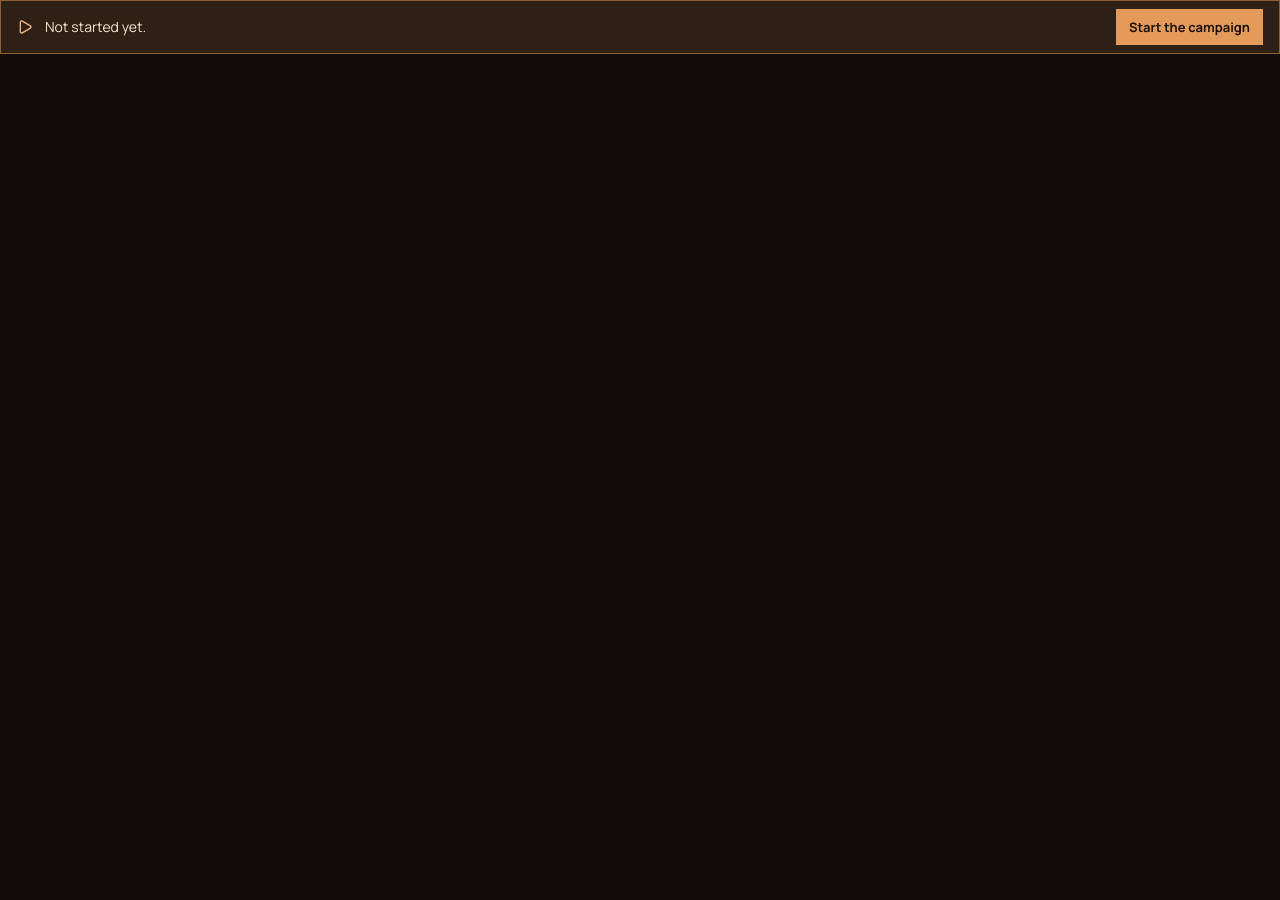
Test: StartCampaignBanner › opens the confirm, which starts the campaign
This screenshot has width=1280, height=900.
Expected: the message shows "Not started yet.", left=45, top=17, right=146, bottom=36
What coordinates should you click on to do the following:
click the button "Start the campaign"
I would click on:
 (1189, 27)
Its box is left=1116, top=9, right=1263, bottom=45.
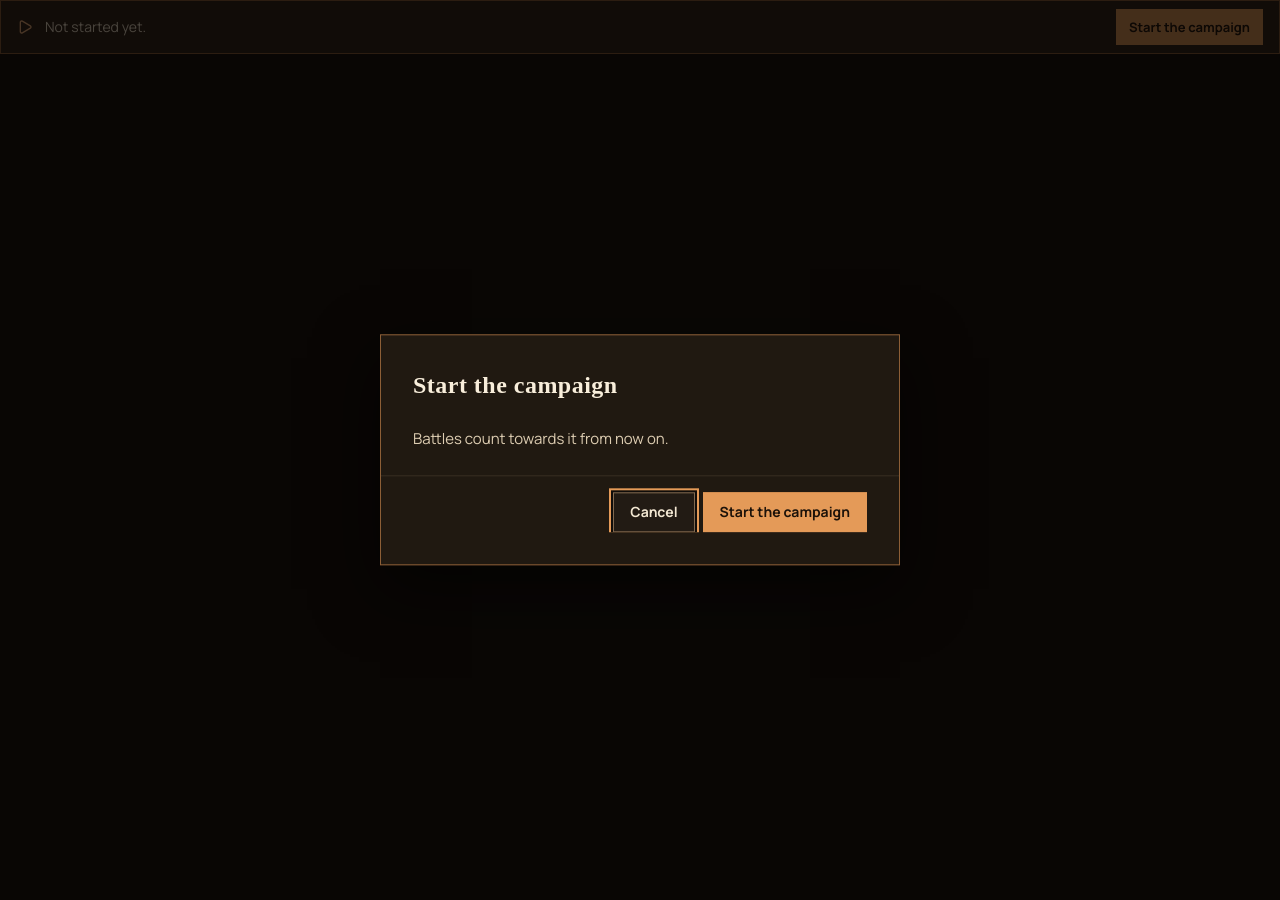
Now the dialog shows "Battles count towards it from now on.", box left=413, top=428, right=668, bottom=449
What coordinates should you click on to do the following:
click the button "Start the campaign"
I would click on:
 (785, 513)
Its box is left=703, top=493, right=867, bottom=533.
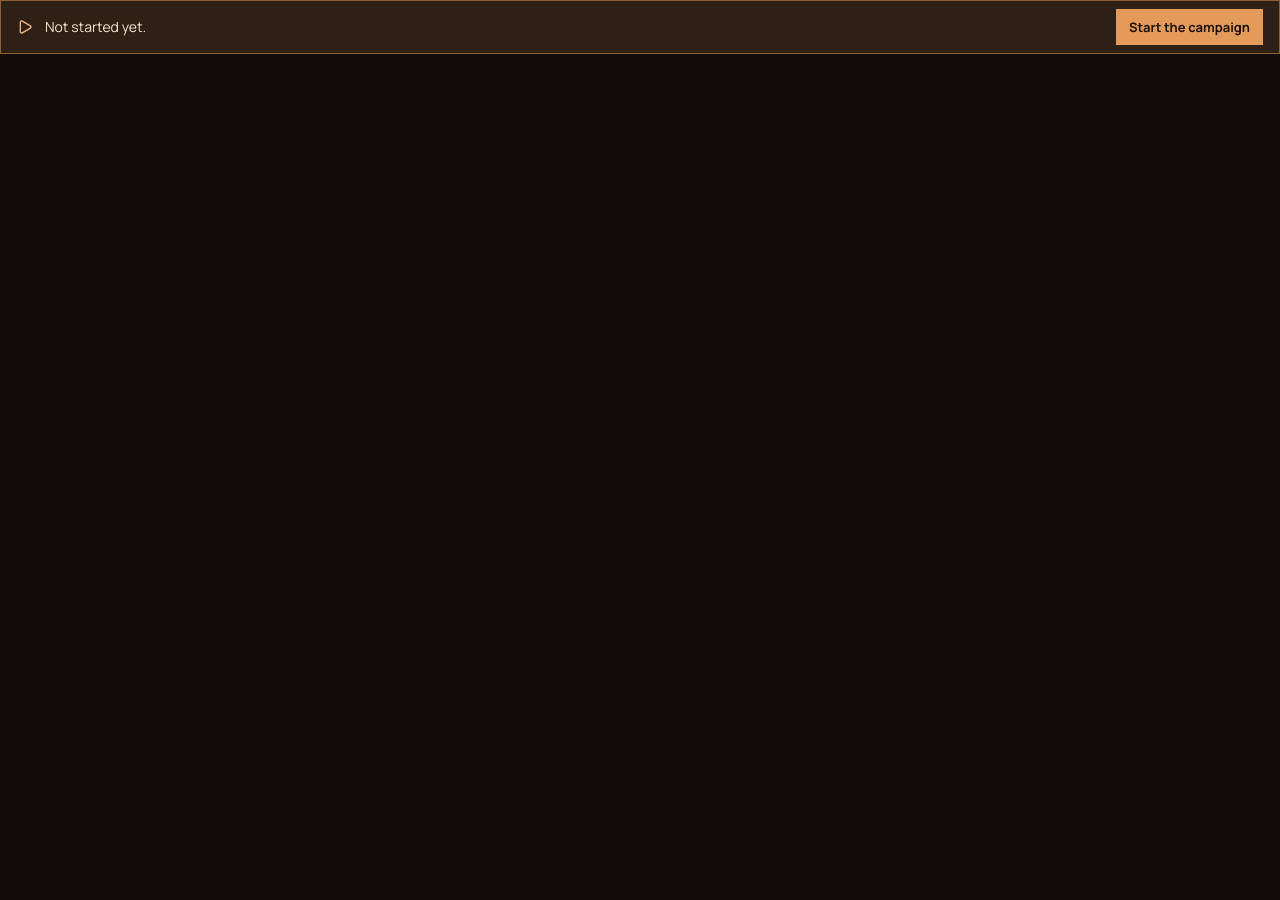
Now the dialog is gone
